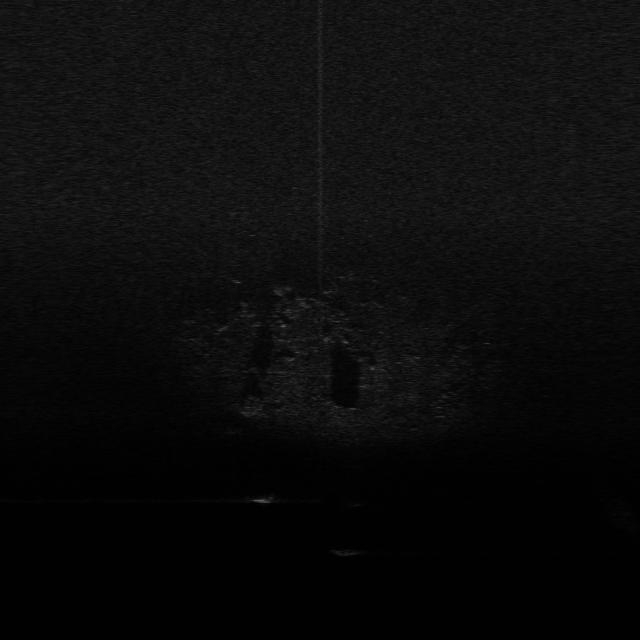cube: (331, 537, 367, 559)
square cage: (244, 488, 277, 507)
